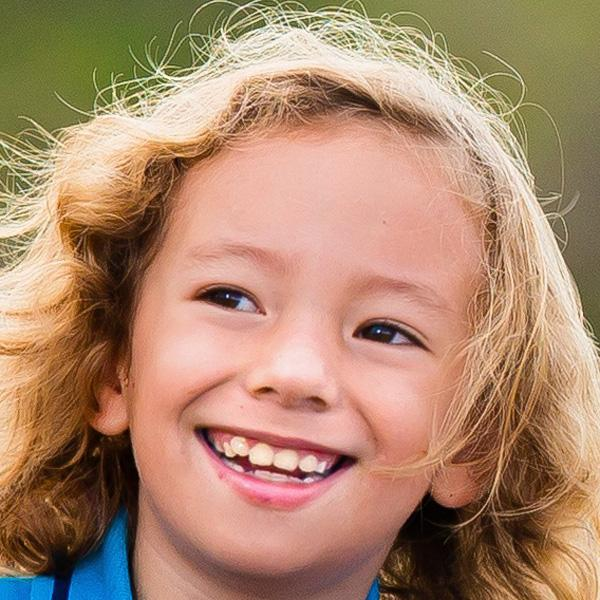Eyes: (344, 304, 437, 362), (183, 271, 271, 323)
